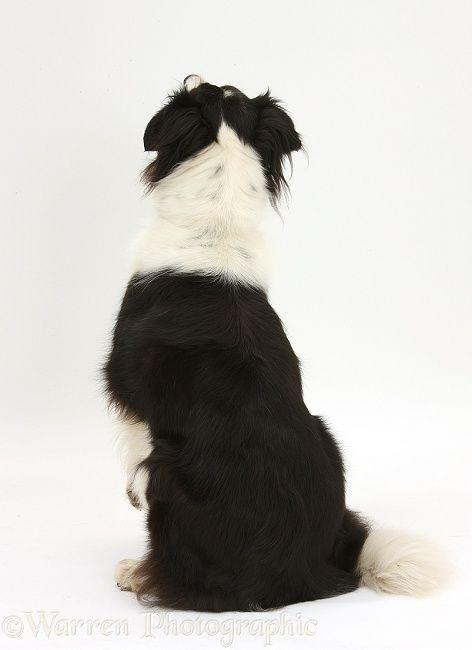adult_dog: (104, 67, 452, 618)
